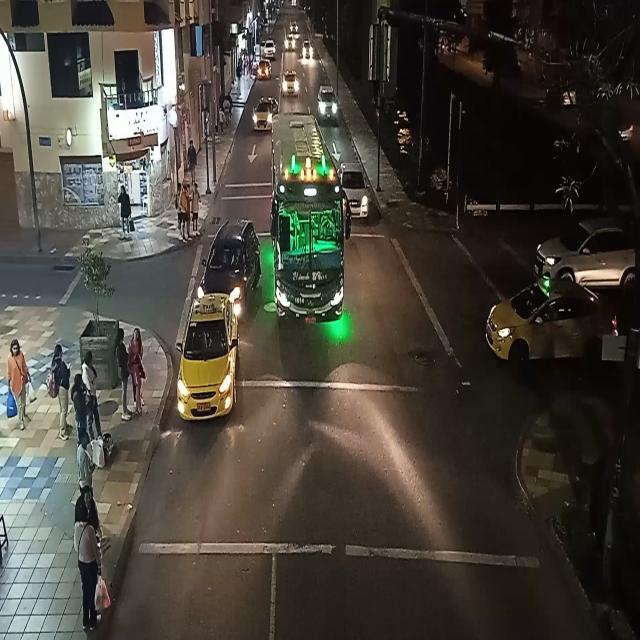BUS: (272, 161, 345, 327)
SED: (490, 280, 620, 359), (180, 286, 239, 420), (341, 164, 368, 218), (254, 100, 276, 132), (283, 73, 298, 97), (260, 62, 272, 80)
SUV: (534, 220, 635, 281), (319, 86, 338, 123), (266, 40, 277, 58)
